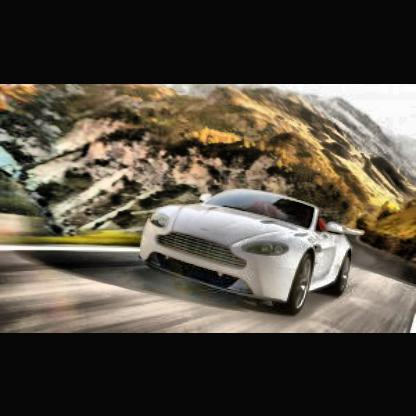Aston Martin V8 Vantage Coupe 2012: (142, 187, 356, 314)
